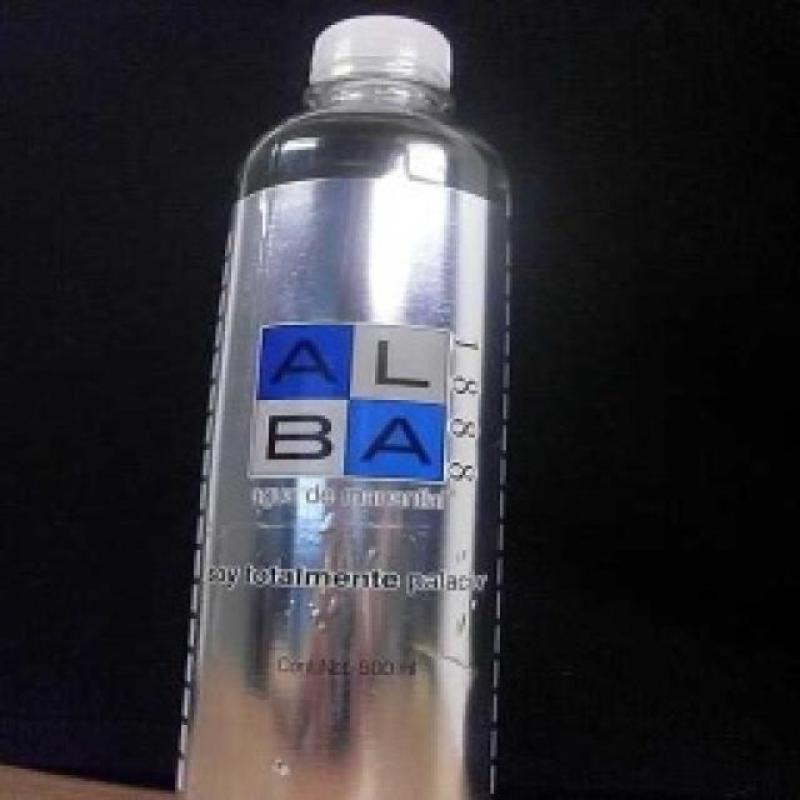botella: (173, 12, 521, 800)
